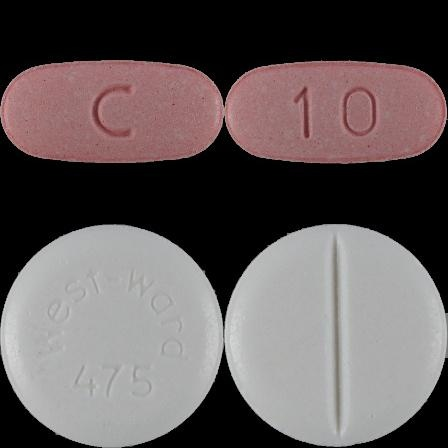43063-642: (0, 0, 224, 224)
